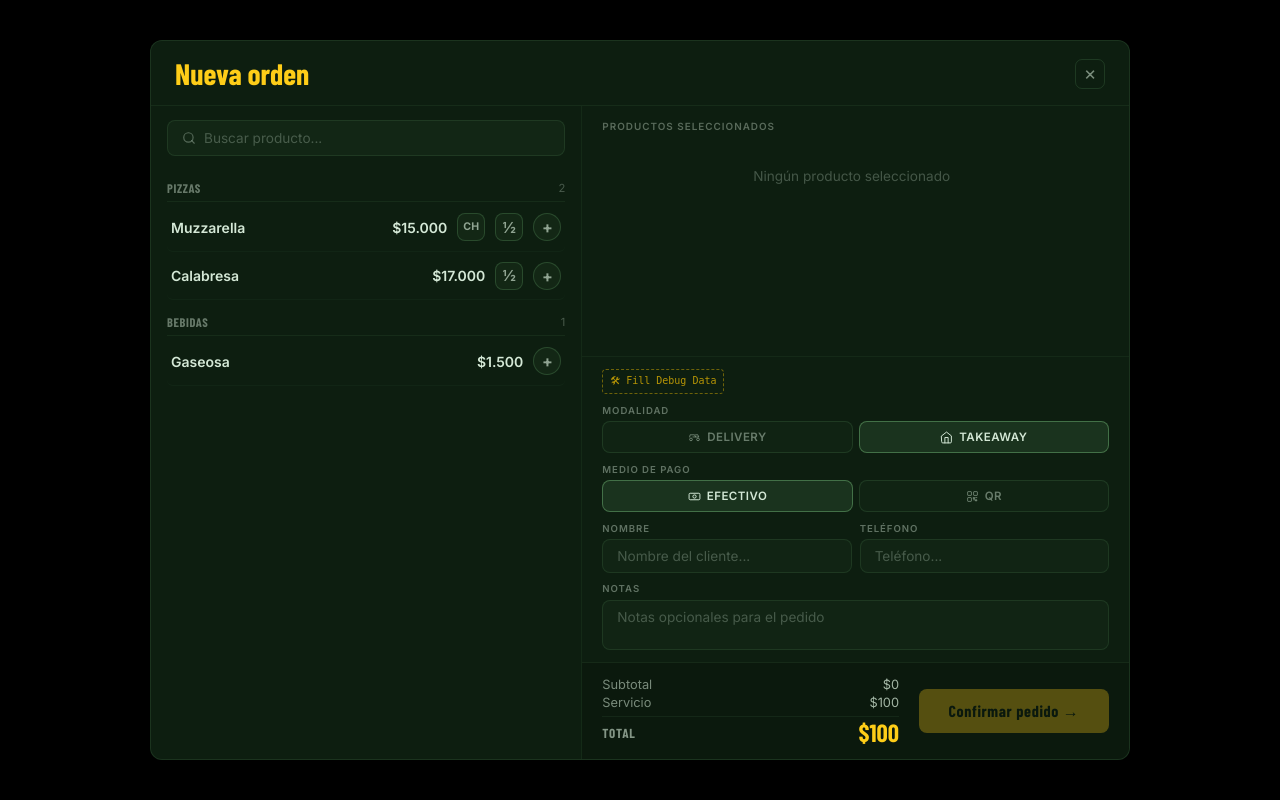
Test: NewOrderModal · tamaño chica (US-SIZE-F-03) › desmarcar vuelve al tamaño grande y rehabilita mitad y mitad
Expected: the text "Muzzarella" is shown, [171, 219, 245, 236]
Click the button "CH".
click(471, 227)  # box [457, 213, 485, 241]
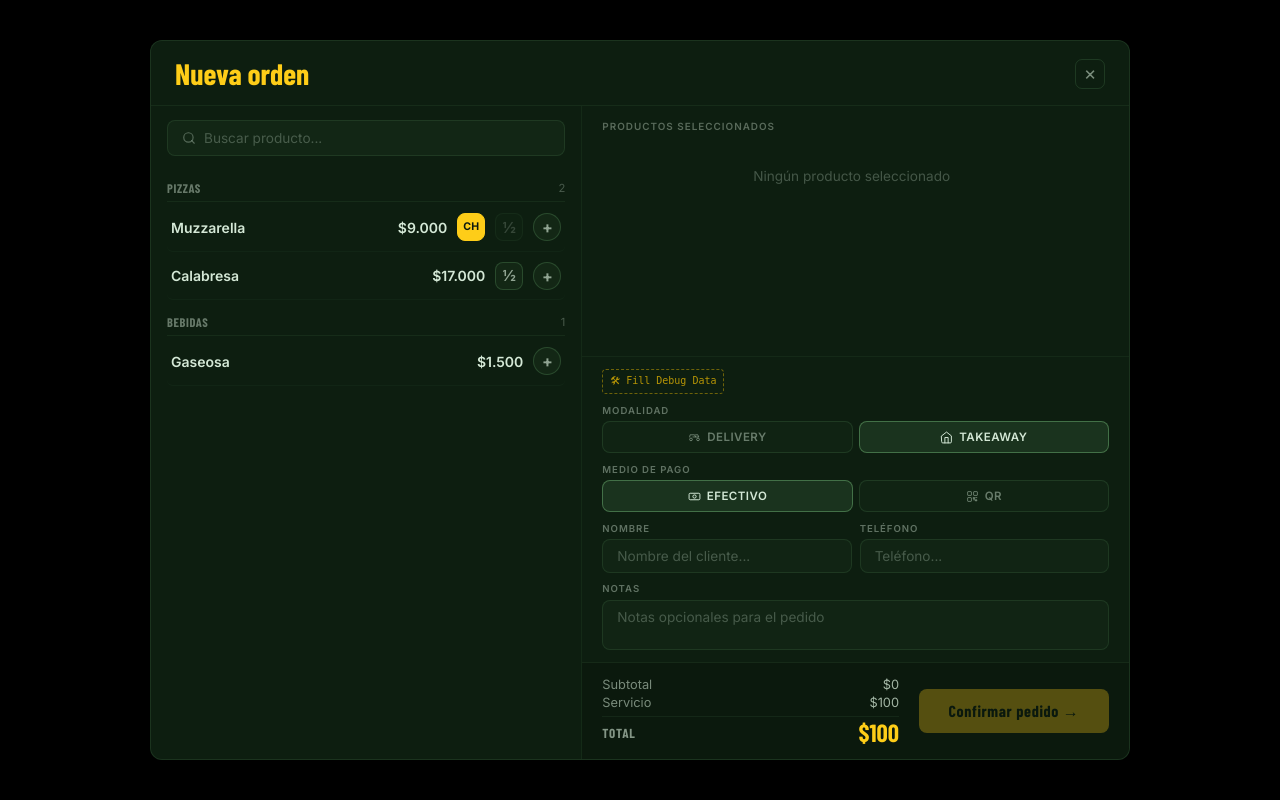
Click the button "CH".
click(471, 227)  # box [457, 213, 485, 241]
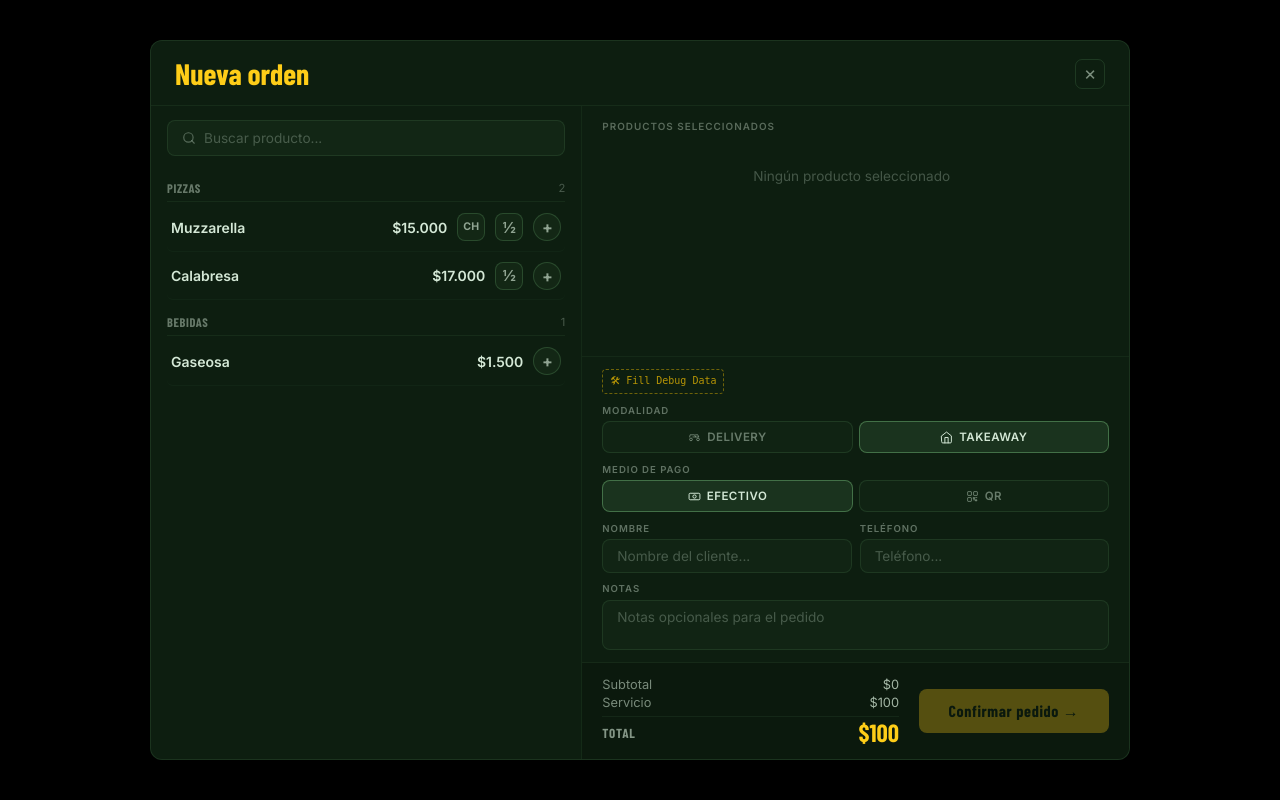
Expected: the button named "mitad y mitad" is enabled, [495, 213, 523, 241]
Expected: the text "$15.000" is shown, [391, 219, 447, 236]
